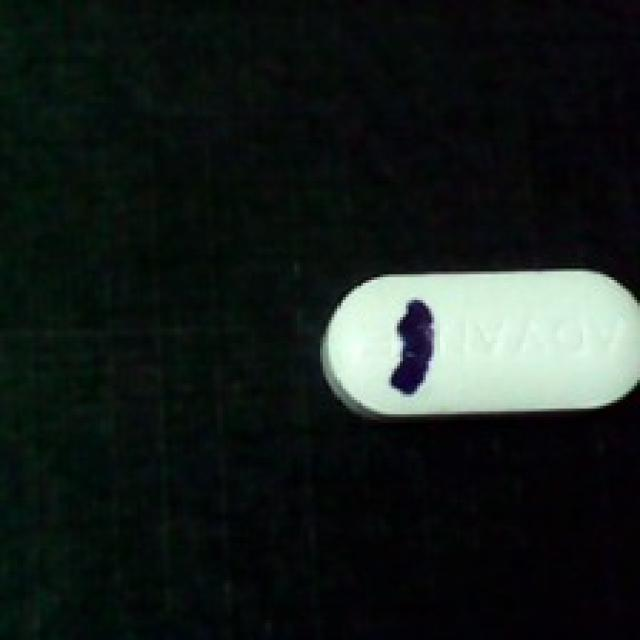defected: (314, 254, 640, 426)
